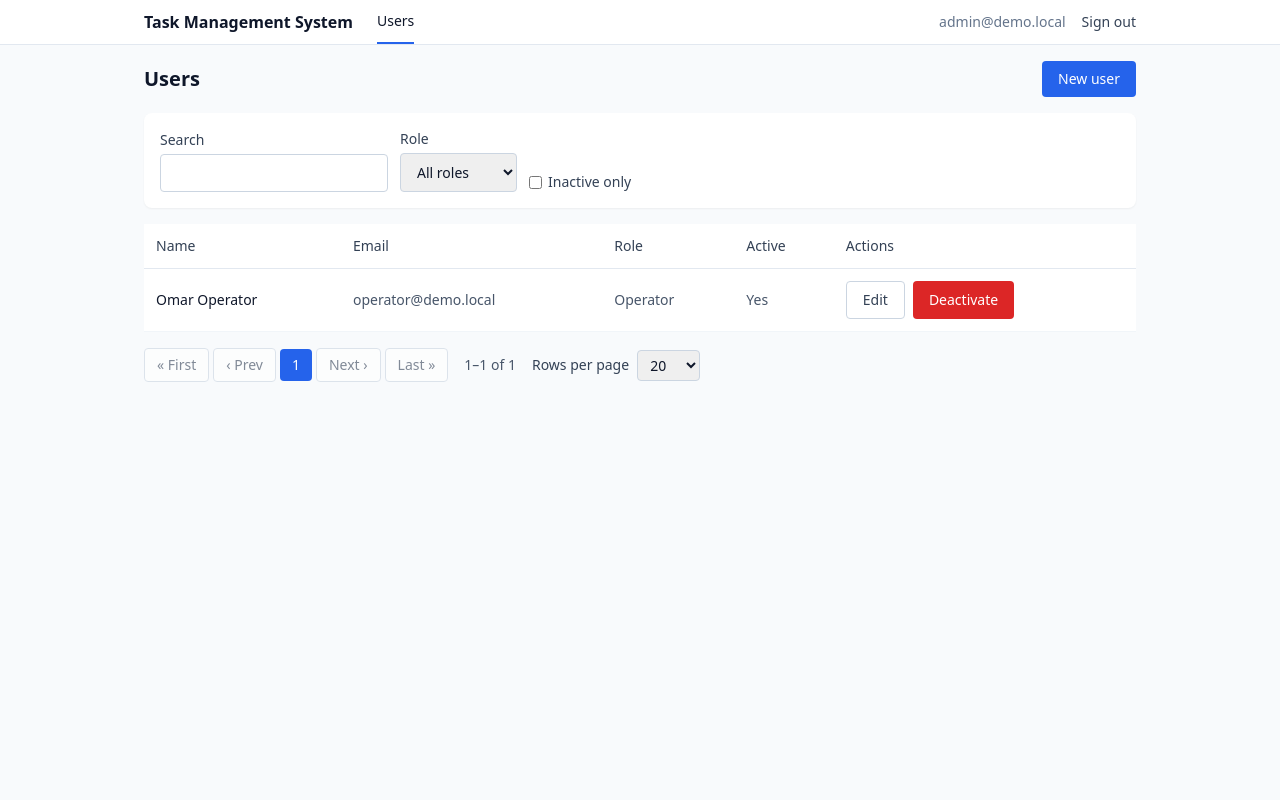
Test: UserListPage › states in the delete dialog that deletion is a deactivation
Step 1. Click the button with aria-label "deactivate operator@demo.local" → [964, 300], box [913,281,1014,319]
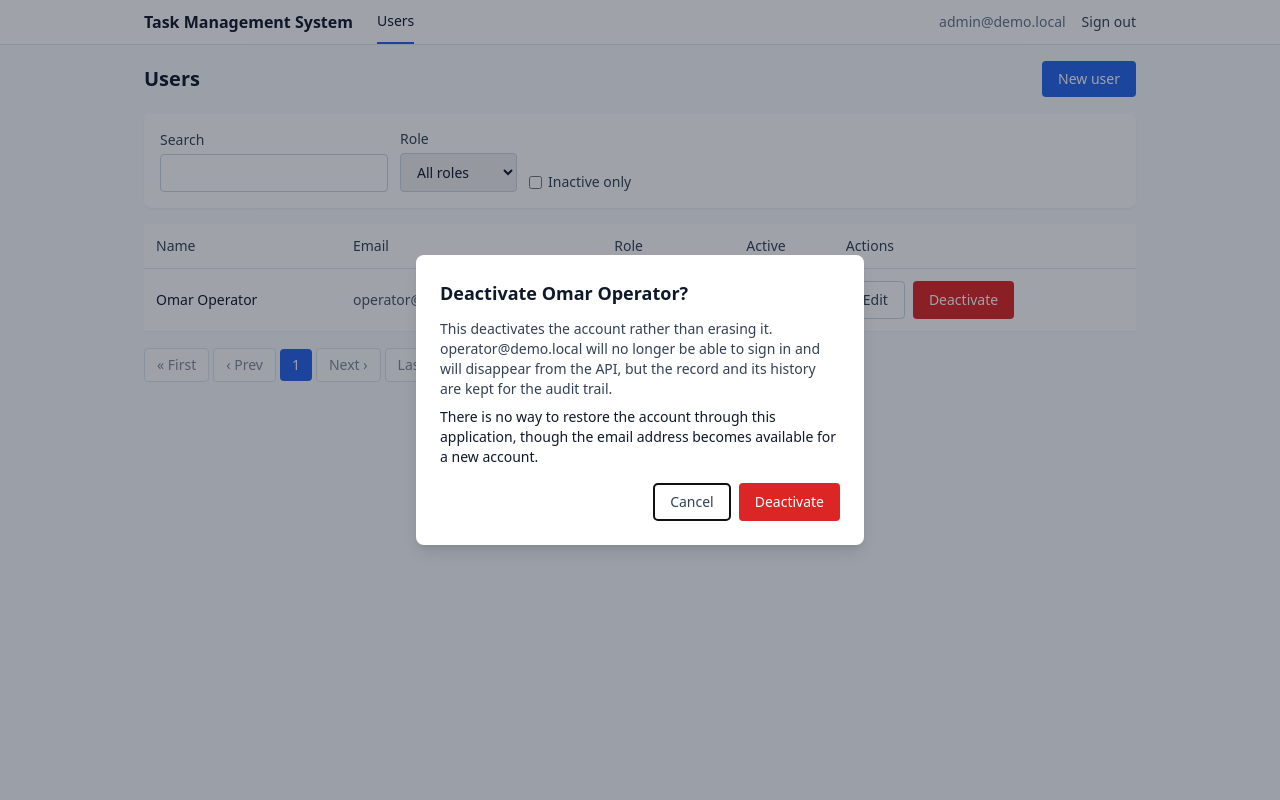
Expected: the dialog shows "deactivates the account rather than erasing it", [440,319,772,338]
Expected: the dialog shows "no longer be able to sign in", [440,339,820,398]
Expected: the dialog shows "record and its history are kept", [440,339,820,398]
